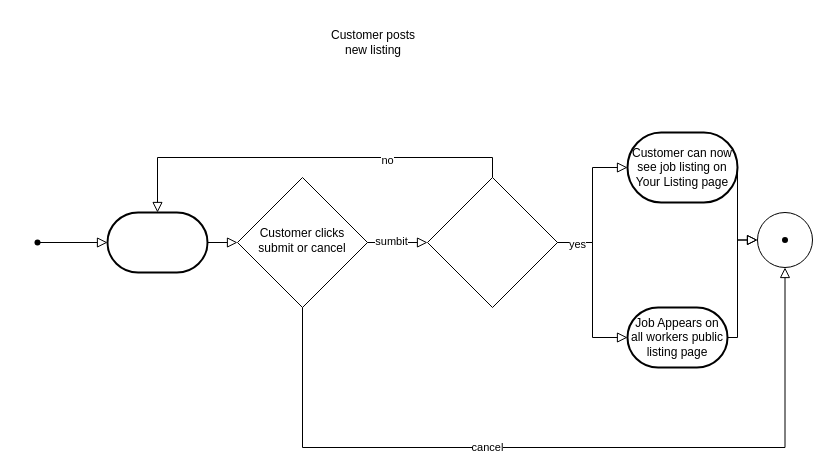
This 830x475 diagram has some shape labels left out. The box of each missing label's shape, as (x1, y1, x2, y2) in pixels:
Customer enters information on new listing page: (106, 211, 208, 273)
Customer filled in all fields correctly: (426, 176, 558, 308)
